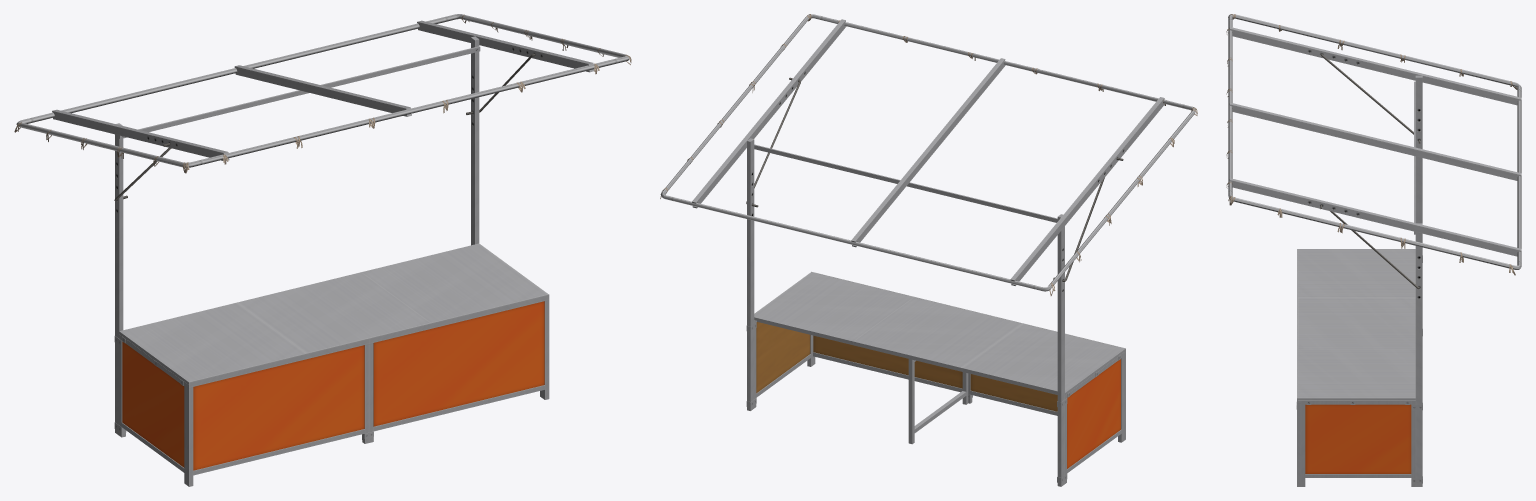
Rendered from jsf_2P_s03_c01_t01.fbx.
The picture shows the model from 3 angles, left to right: view 1: azimuth 30°, elevation 25°; view 2: azimuth 150°, elevation 25°; view 3: azimuth 270°, elevation 25°; orthographic projection. The views are drawn at different scales.
Parts seen in each view (by area): view 1: Base_s03_c01, Table_2P_s03_t01, Pillar2_s03, Rope_2P_s03; view 2: Table_2P_s03_t01, Pillar2_s03, Base_s03_c01, Support; view 3: Table_2P_s03_t01, Pillar2_s03, Base_s03_c01, Rope_2P_s03.
Boxes of the visible parts, x1,y1,x2,y2 form: Base_s03_c01: (114,294,549,486); Table_2P_s03_t01: (119,243,547,385); Pillar2_s03: (16,14,629,435); Rope_2P_s03: (14,14,631,173); Table_2P_s03_t01: (754,272,1125,397); Pillar2_s03: (660,14,1196,486); Base_s03_c01: (746,271,1125,483); Support: (908,359,968,444); Table_2P_s03_t01: (1298,249,1415,404); Pillar2_s03: (1228,14,1521,486); Base_s03_c01: (1296,249,1422,486); Rope_2P_s03: (1226,14,1517,275).
Size of the model in its own units: 316 by 244 by 211.
